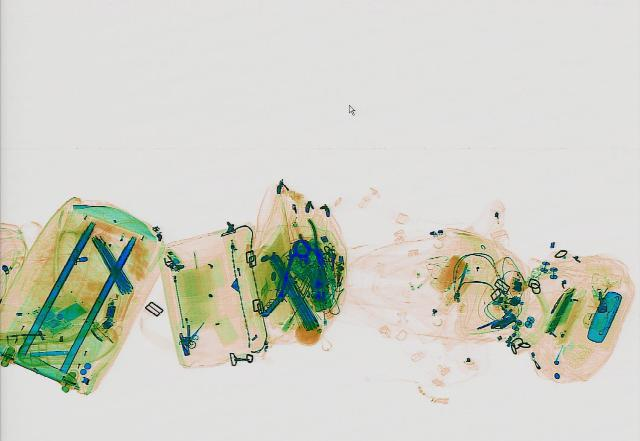Pliers: (288, 217, 340, 272)
